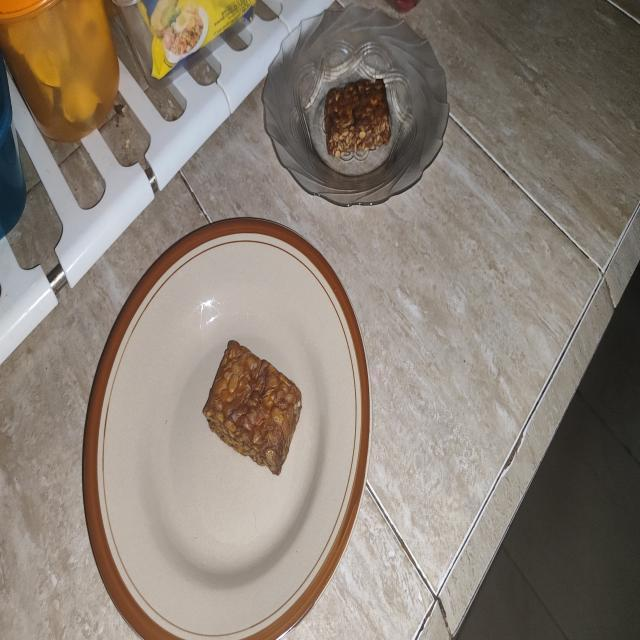tempe_goreng: (204, 340, 302, 474), (324, 80, 390, 159)
